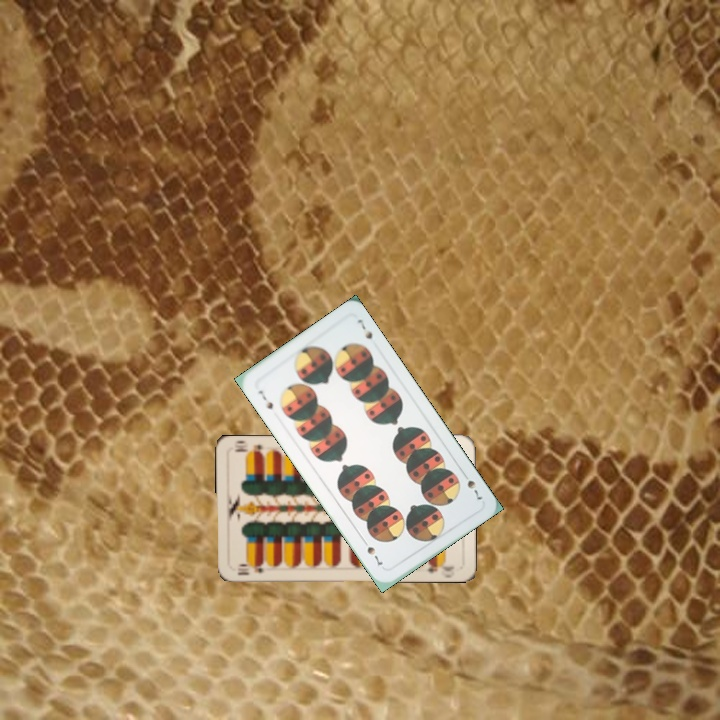E10: (234, 559, 266, 578)
S7: (458, 468, 486, 505), (254, 386, 276, 413)
